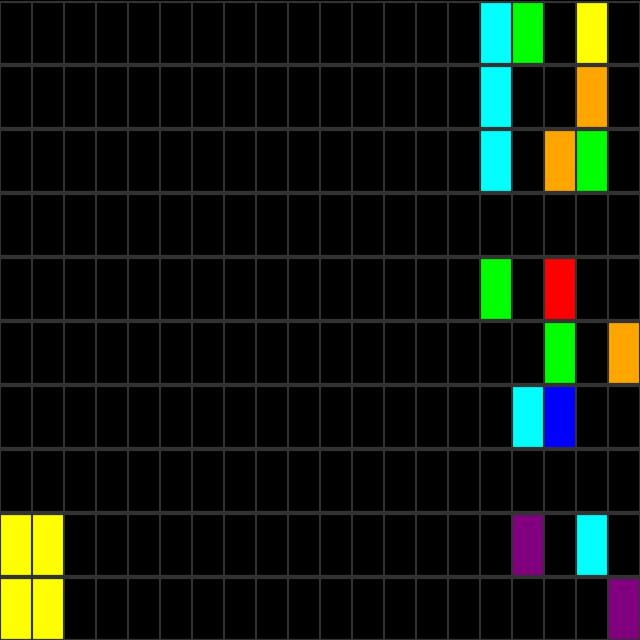Tetrimino_O: (0, 514, 63, 638)
